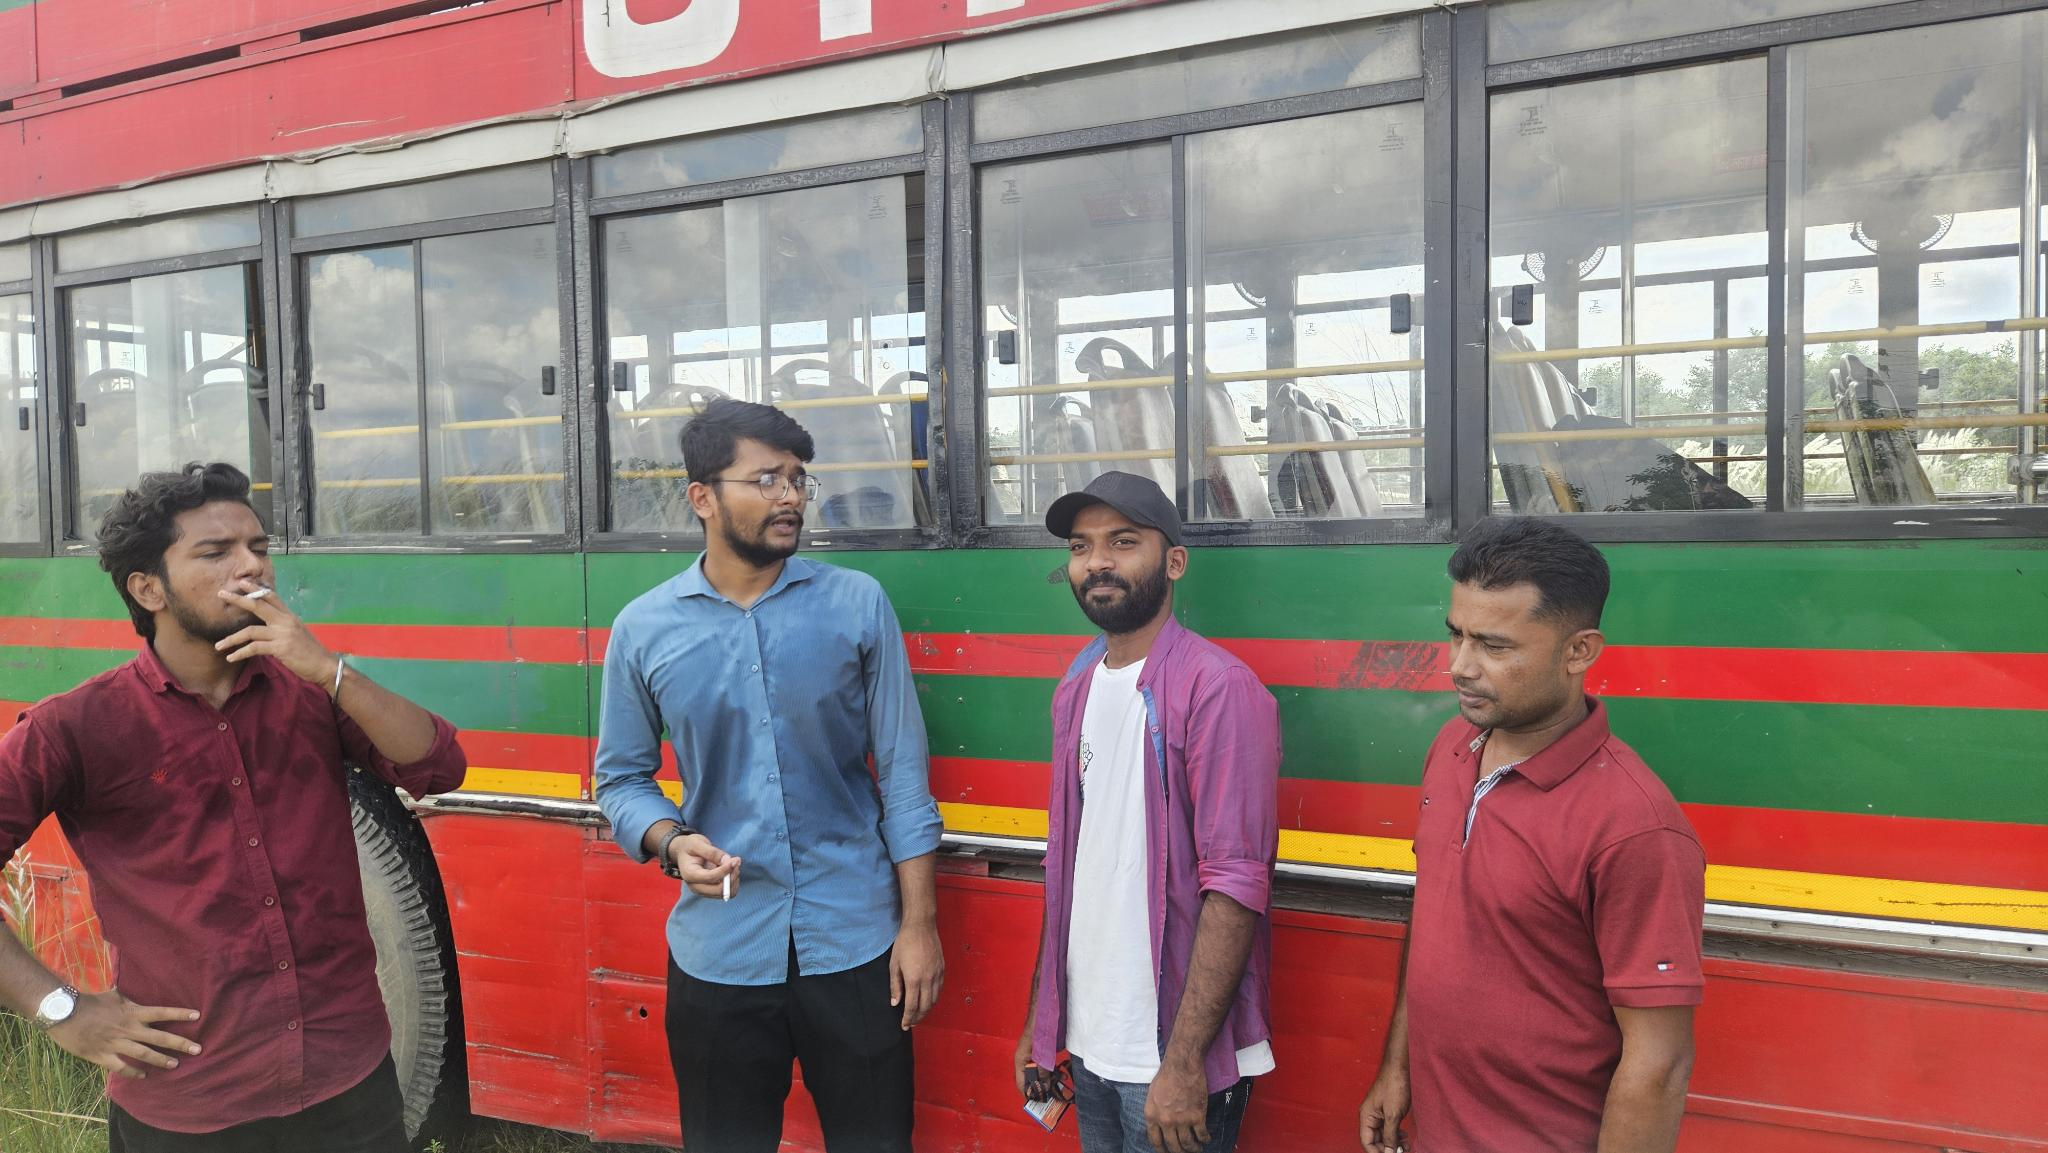cigarette: (719, 869, 733, 907), (242, 585, 274, 600)
nonSmoker: (1355, 517, 1709, 1153), (1013, 470, 1283, 1153)
smoker: (0, 467, 467, 1153), (594, 402, 948, 1153)
